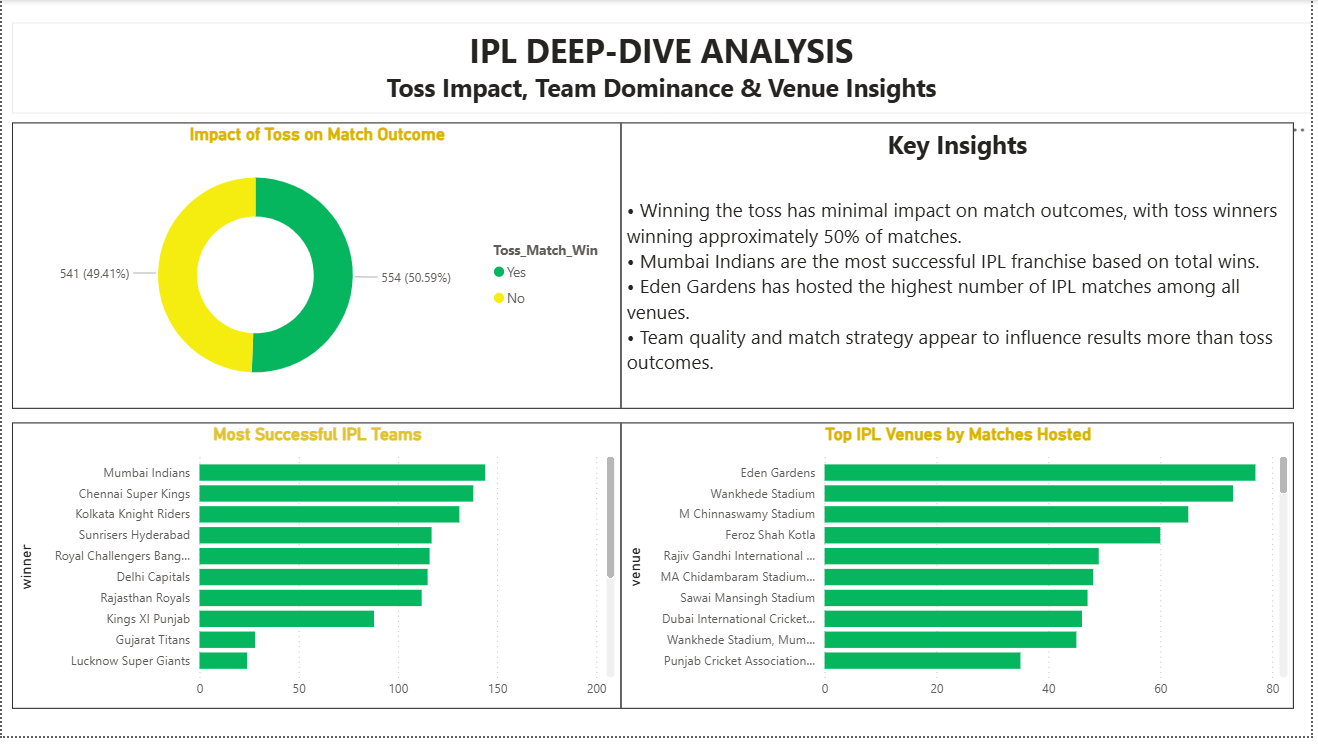

The page's visual inventory and layout, read from the dashboard file:
{"tool":"powerbi","page":{"name":"Deep-Dive Analysis","canvas":[1280,720],"ordinal":1},"visuals":[{"type":"donutChart","title":"Impact of Toss on Match Outcome","fields":{"Category":["cleaned_matches.Toss_Match_Win"],"Y":["CountNonNull(cleaned_matches.id)"]},"box":[9.7,119.4,596,279.9],"z":0},{"type":"clusteredBarChart","title":"Most Successful IPL Teams","fields":{"Category":["cleaned_matches.winner"],"Y":["CountNonNull(cleaned_matches.id)"]},"box":[9.7,413.8,596,279.9],"z":1000},{"type":"clusteredBarChart","title":"Top IPL Venues by Matches Hosted","fields":{"Category":["cleaned_matches.venue"],"Y":["CountNonNull(cleaned_matches.id)"]},"box":[605.6,413.8,658.7,279.9],"z":2000},{"type":"textbox","box":[9.8,22,1270.5,89.3],"z":3000},{"type":"textbox","box":[605.6,119.4,658.7,279.9],"z":4000}]}

Visuals, with their boxes in screenshot pixels (x1, y1, x2, y2), scaled from the page's 1280x720 canvas onto the 1318x744 screenshot:
"Impact of Toss on Match Outcome" donutChart: pyautogui.locateOnScreen(10, 123, 624, 413)
"Most Successful IPL Teams" clusteredBarChart: pyautogui.locateOnScreen(10, 428, 624, 717)
"Top IPL Venues by Matches Hosted" clusteredBarChart: pyautogui.locateOnScreen(624, 428, 1302, 717)
textbox: pyautogui.locateOnScreen(10, 23, 1317, 115)
textbox: pyautogui.locateOnScreen(624, 123, 1302, 413)
